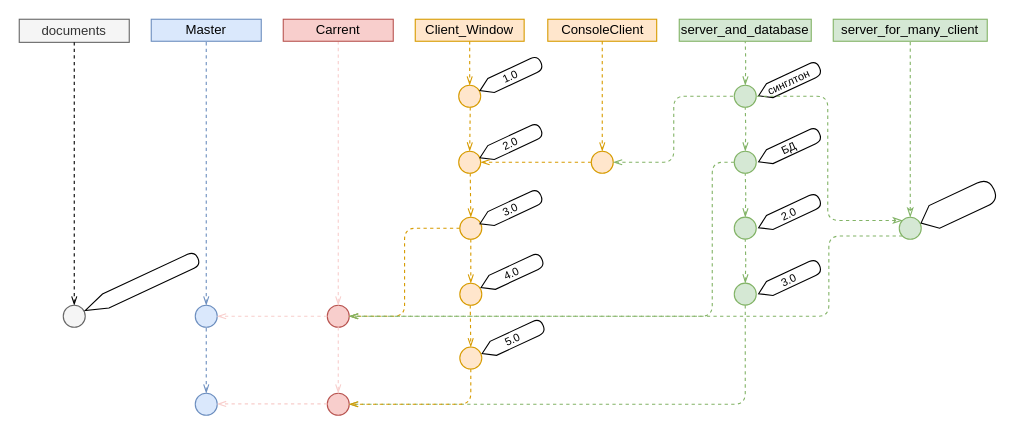
The diagram is 1019 pixels wide and 435 high, and some of its shapes have lost their labels. The box of each missing label's shape, as (x1, y1, x2, y2) in pixels:
готовые диаграммы: (81, 250, 201, 318)
несколько клиентов: (914, 177, 999, 235)
